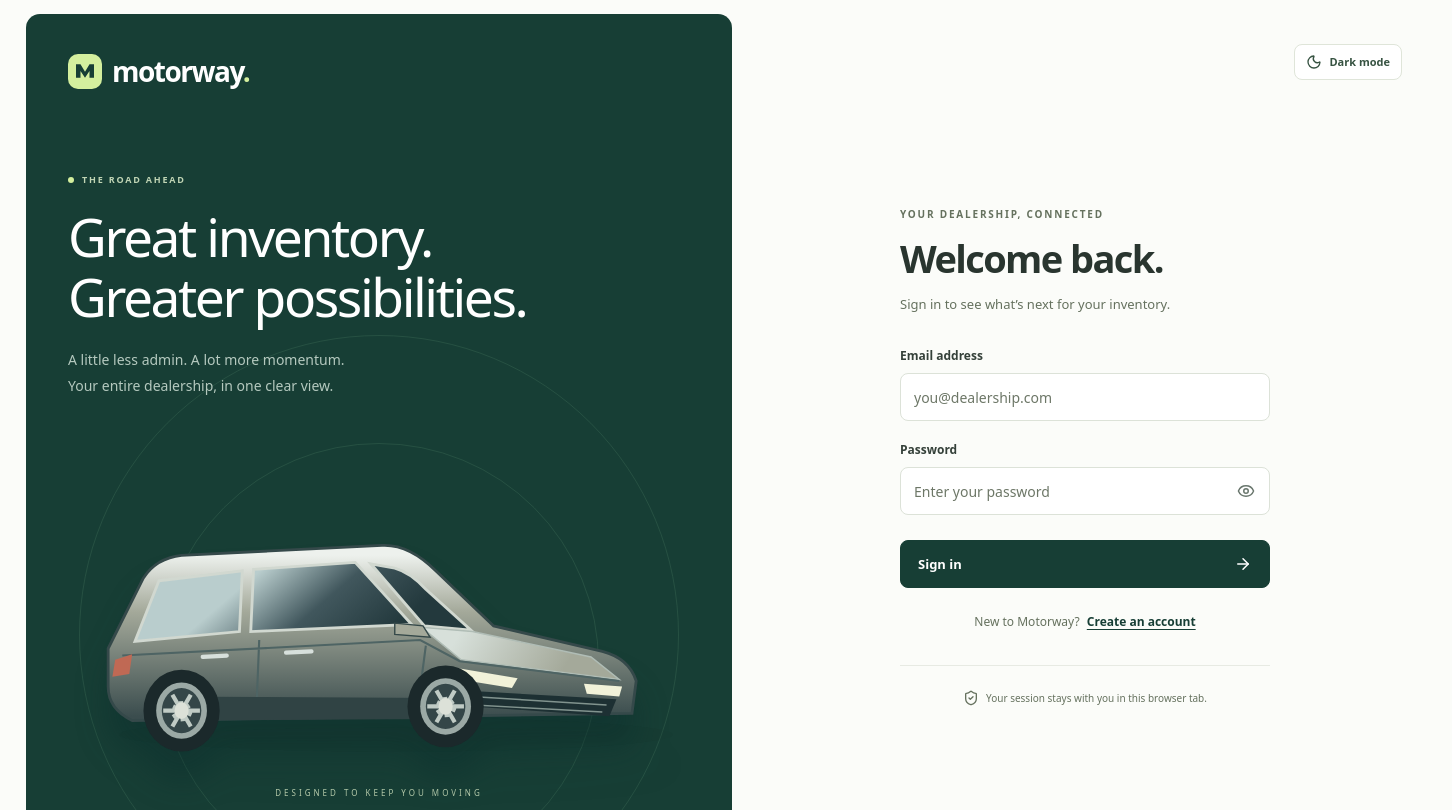
authentication › rejects mismatched registration passwords before contacting the server
Click the button "Create an account" at (1141, 622), box [1087,614,1196,632]
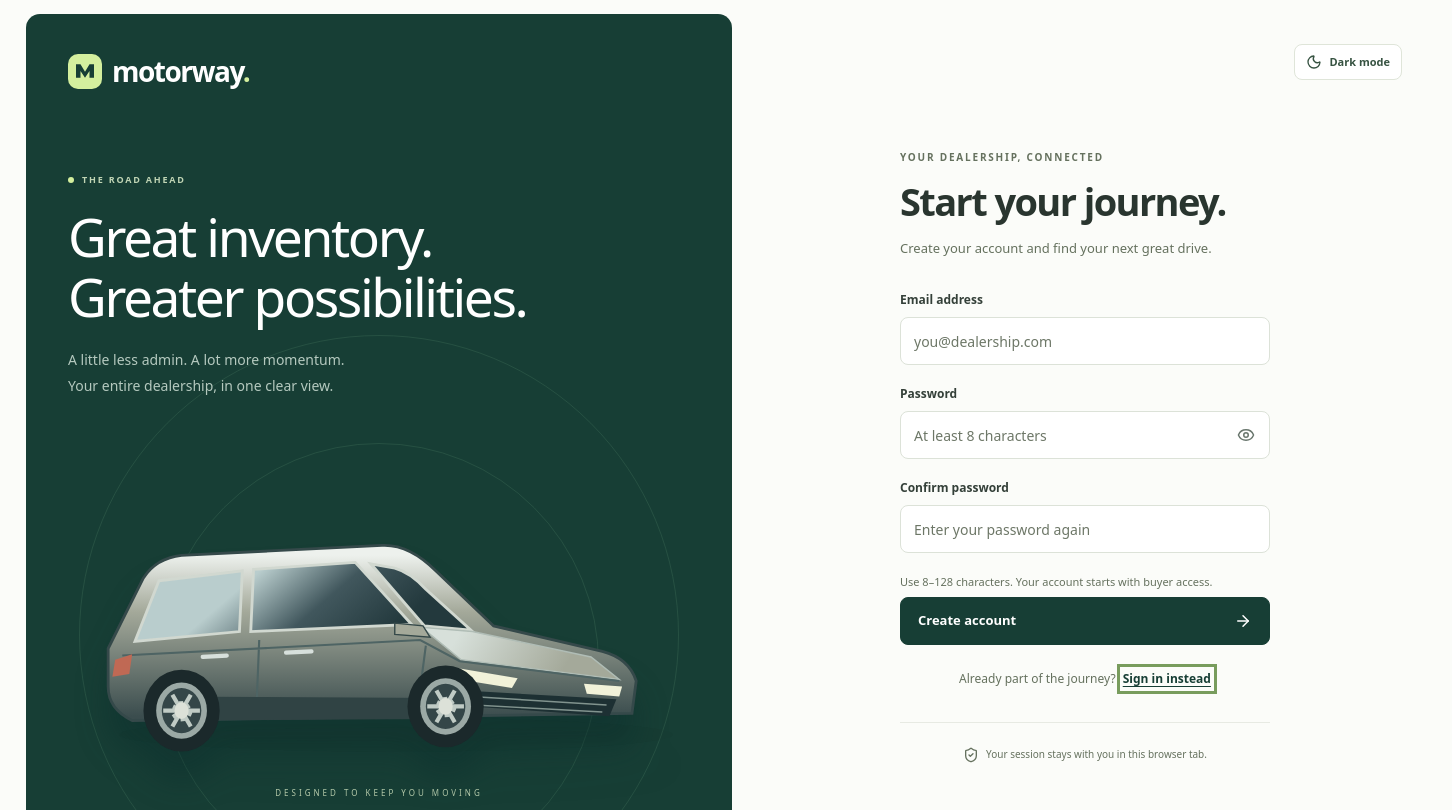
Type "new@example.com" into the field labelled "Email address" at (1085, 341), box [900,317,1270,365]
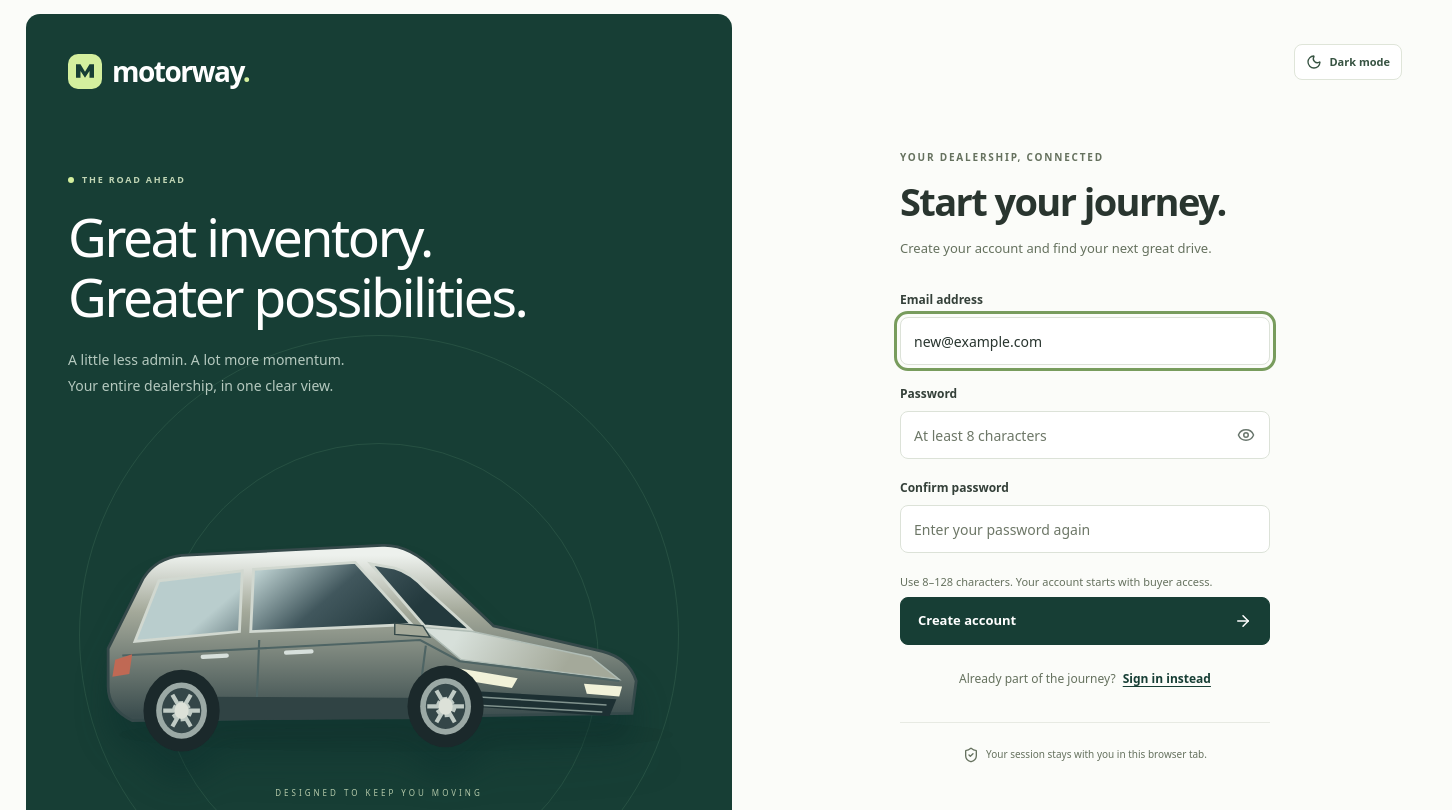
Type "password123" into the password field labelled "Password" at (1085, 435), box [900,411,1270,459]
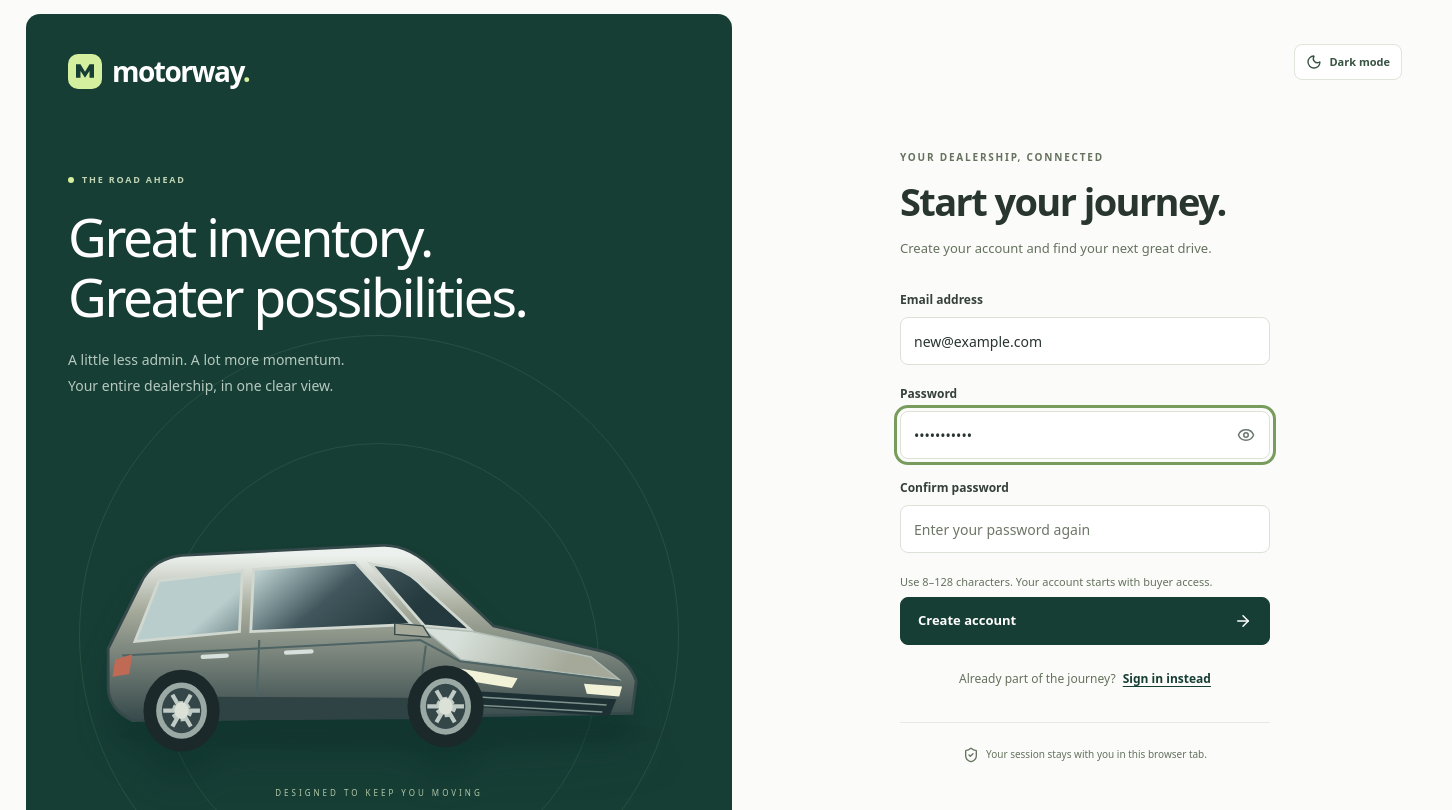
Type "different123" into the password field labelled "Confirm password" at (1085, 529), box [900,505,1270,553]
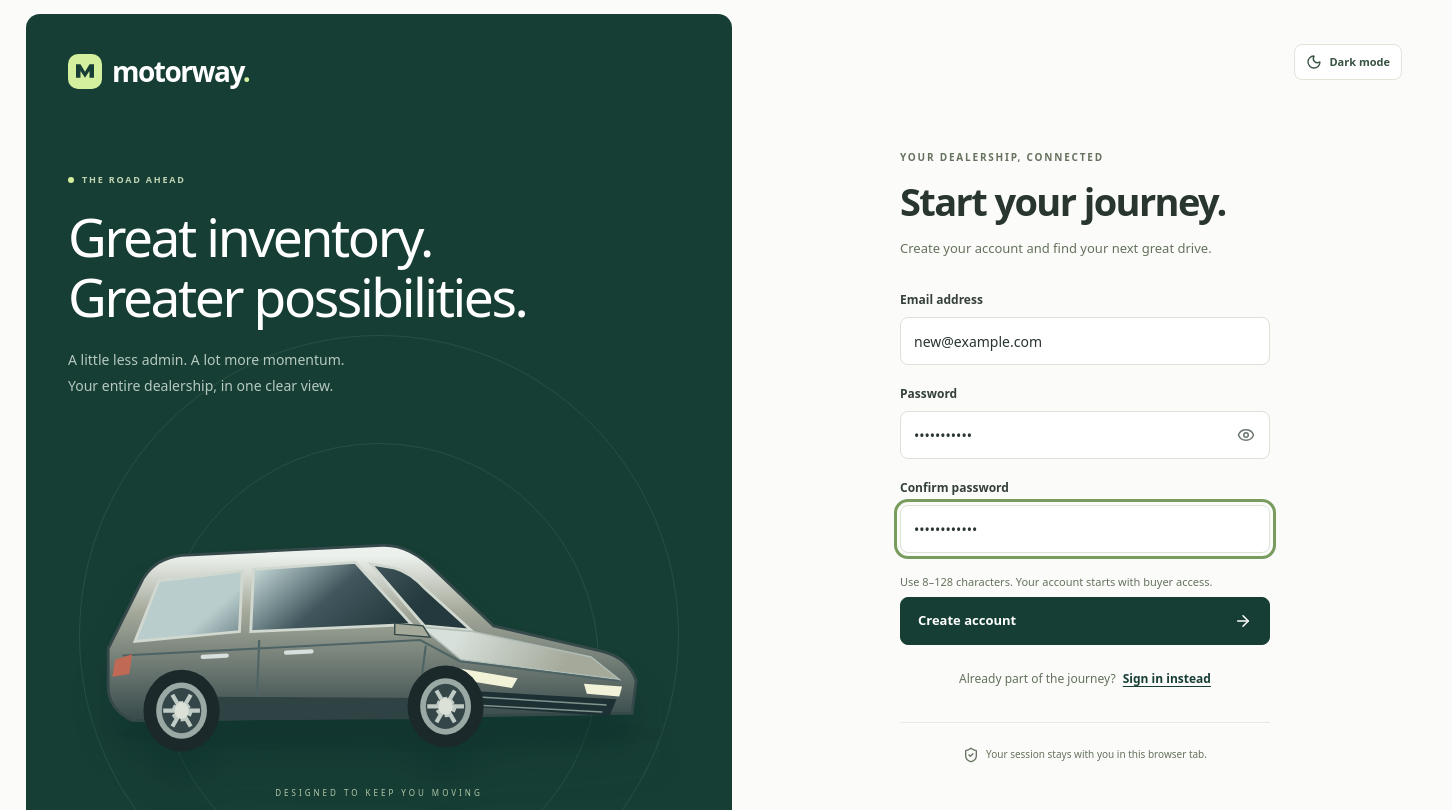
Click the button "Create account" at (967, 620), box [900,597,1270,645]
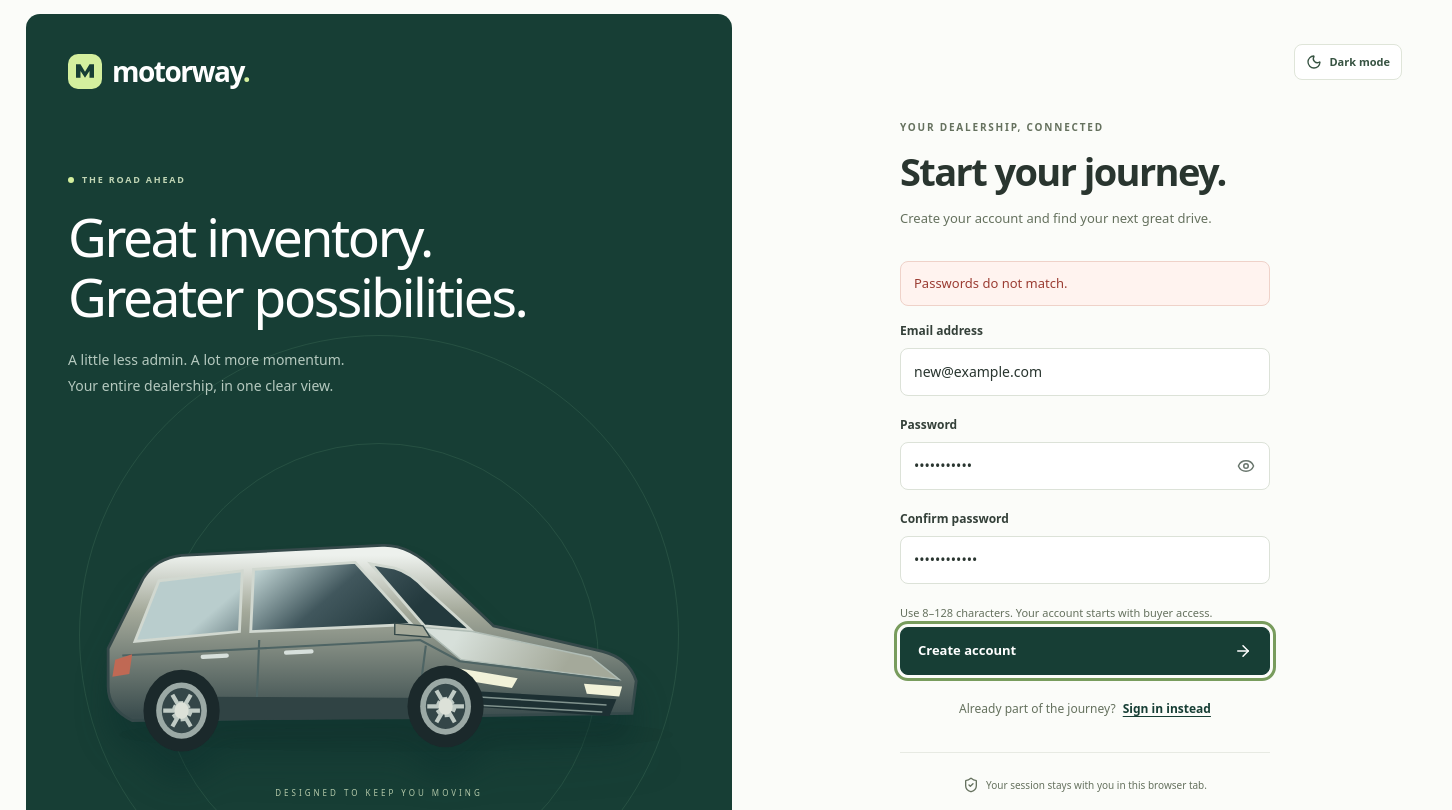
Now the message shows "Passwords do not match", box [914,274,1068,292]
